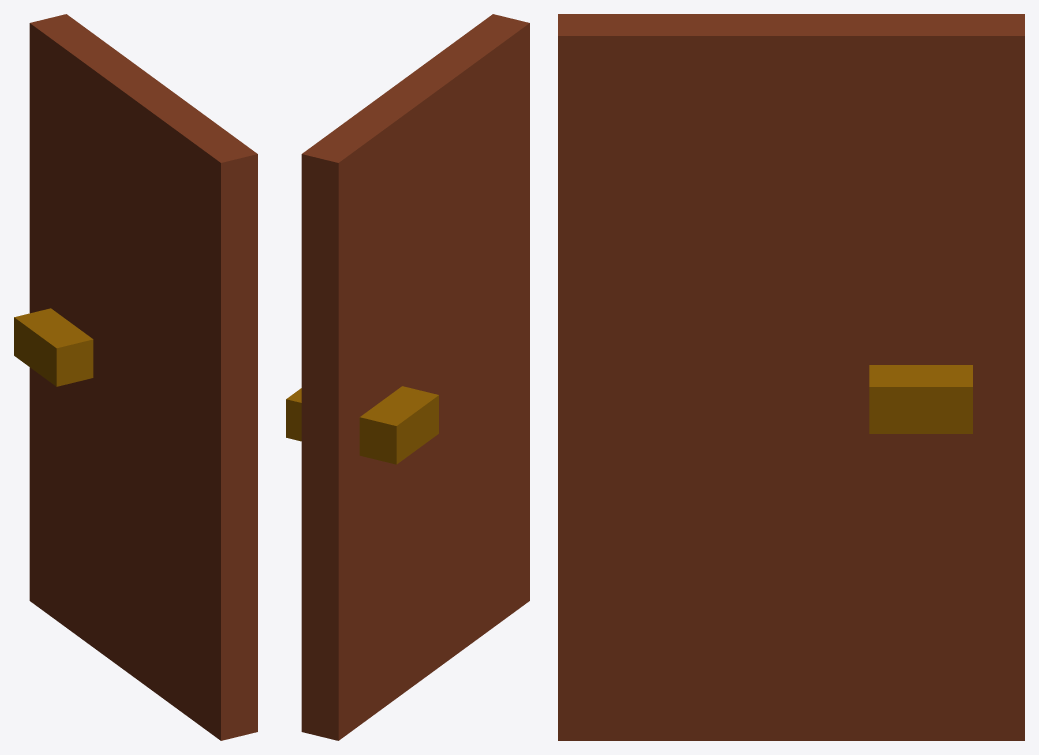
File: Door 2.obj
3 renders of one model, left to right at view 1: azimuth 30°, elevation 25°; view 2: azimuth 150°, elevation 25°; view 3: azimuth 270°, elevation 25°, orthographic. The views are drawn at different scales.
Visible parts, largest first — view 1: Door 2; view 2: Door 2; view 3: Door 2.
Boxes of the visible parts, x1=… form: Door 2: x1=14, y1=14, x2=257, y2=740; Door 2: x1=286, y1=14, x2=529, y2=740; Door 2: x1=558, y1=14, x2=1024, y2=740.
Bounding box in the file's own units: 3 × 15 × 9.
